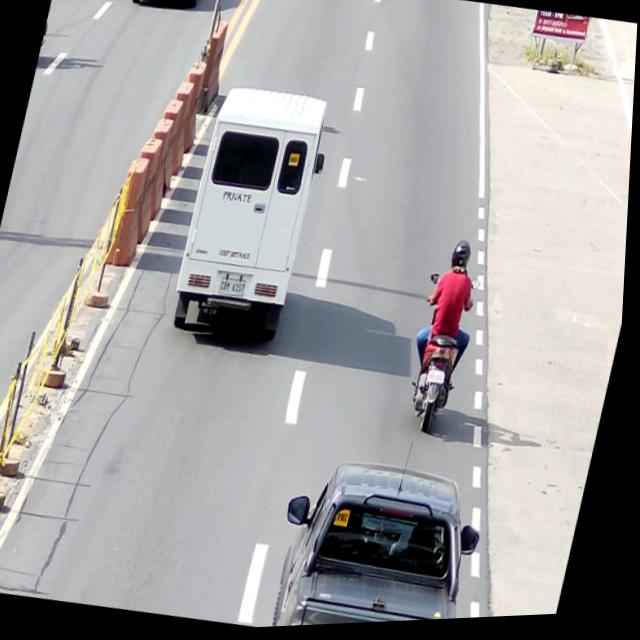Car: (169, 79, 340, 349), (267, 437, 502, 630), (128, 0, 209, 14)
License-Plate: (219, 277, 251, 301), (429, 371, 451, 390)
Motorcycle: (400, 274, 483, 440)
